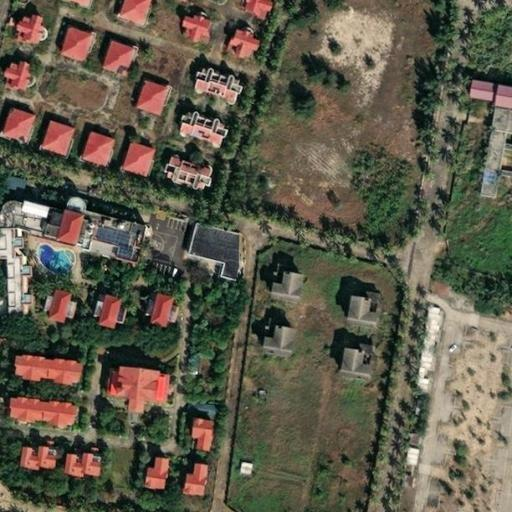building: (0, 189, 75, 242), (176, 218, 225, 278), (74, 206, 133, 254), (410, 301, 443, 386), (97, 361, 162, 400), (456, 71, 512, 114), (473, 126, 504, 196), (181, 60, 232, 101), (0, 402, 62, 433), (0, 362, 62, 393), (165, 103, 213, 139), (150, 152, 202, 183), (324, 342, 361, 382), (68, 125, 103, 167), (88, 35, 123, 77), (163, 8, 207, 41), (256, 262, 293, 301), (333, 290, 369, 330), (122, 75, 157, 116), (26, 114, 60, 156), (108, 136, 142, 178), (46, 20, 80, 62), (29, 279, 66, 317), (248, 320, 284, 359), (133, 285, 167, 322), (216, 23, 251, 58), (53, 444, 89, 476), (6, 438, 42, 467), (0, 50, 25, 90), (82, 288, 112, 321), (0, 100, 23, 141), (174, 410, 202, 443), (171, 456, 196, 490), (132, 450, 157, 482), (184, 347, 211, 375), (106, 0, 137, 24), (430, 273, 456, 298), (228, 0, 257, 21), (172, 401, 204, 415), (236, 457, 254, 475), (52, 0, 80, 8), (116, 396, 132, 409)
